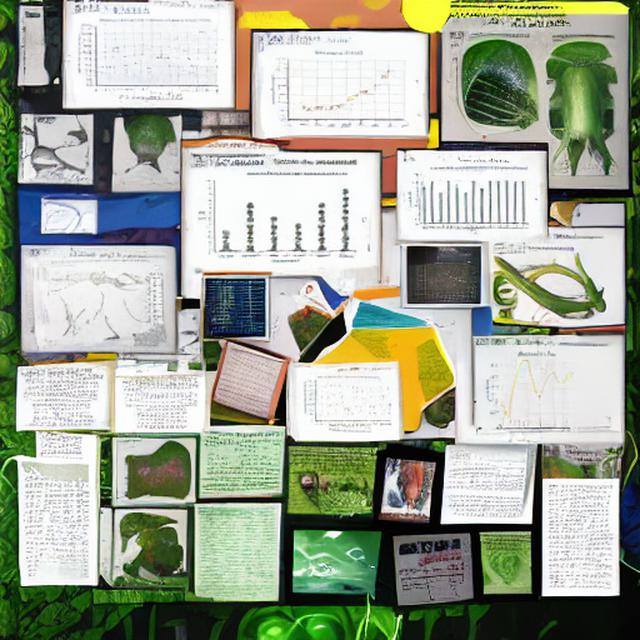Graph: (195, 170, 357, 266), (75, 15, 220, 102), (268, 49, 410, 133), (405, 163, 532, 236), (483, 348, 587, 426), (302, 374, 389, 430), (415, 261, 481, 304), (38, 259, 88, 289)
